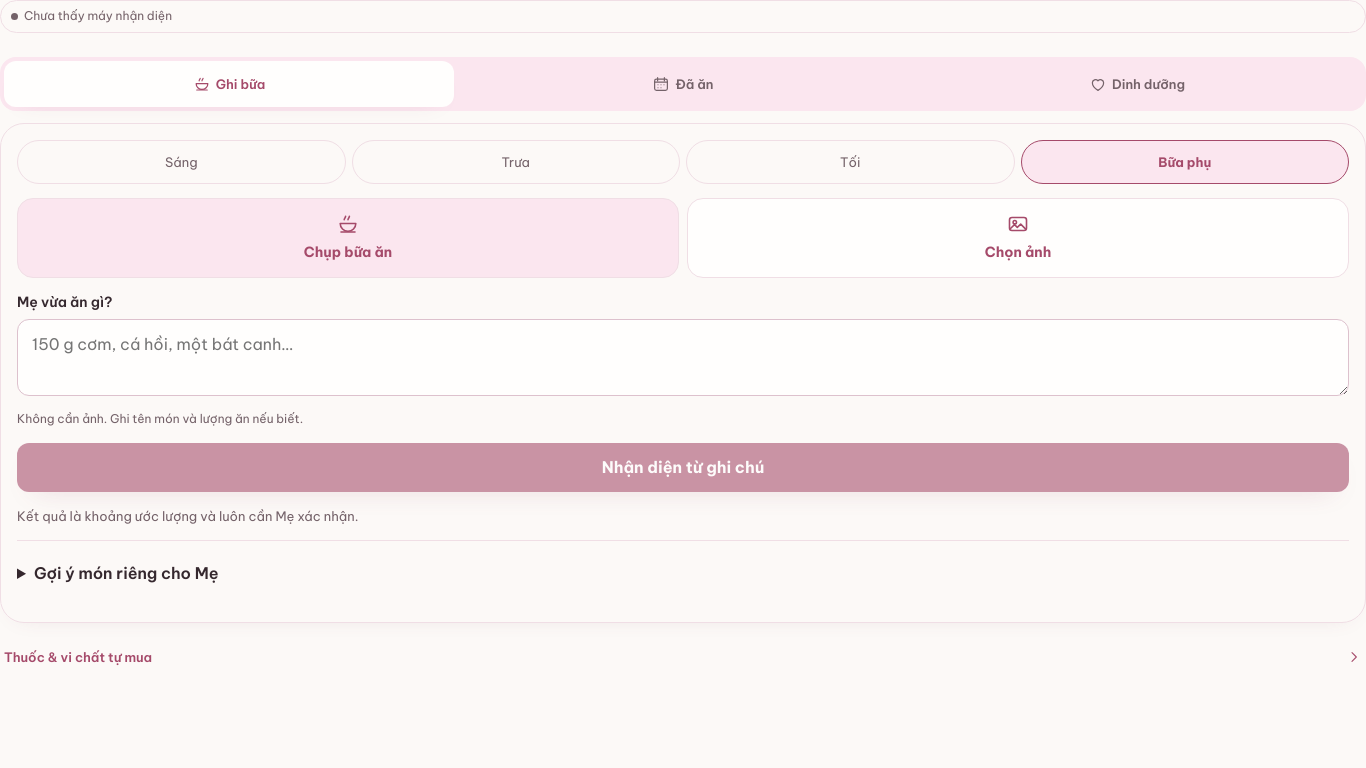
Test: mobile meal journal › shows a retry instead of an empty history when the connection fails
Click the button "Đã ăn".
click(683, 84)  # box left=458, top=61, right=908, bottom=107
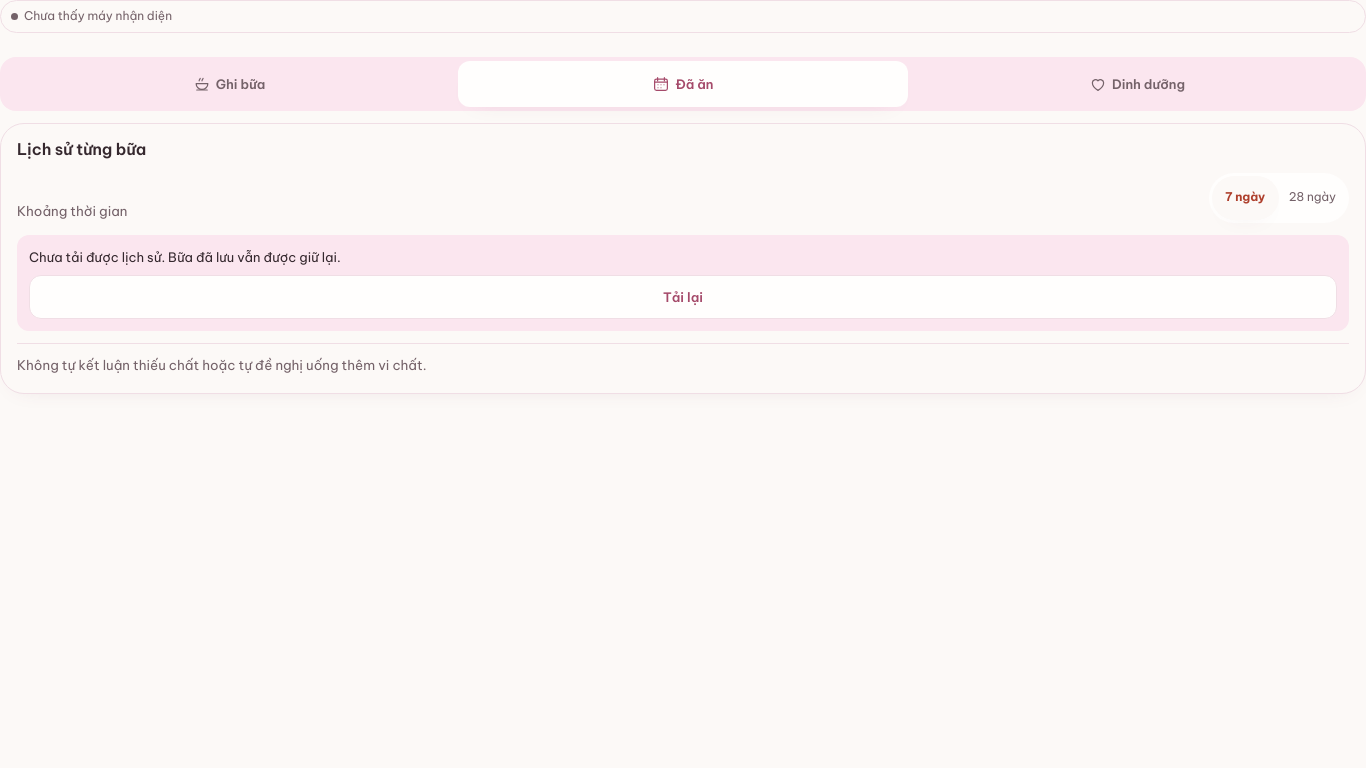
expect the message shows "Chưa tải được lịch sử": met, box left=29, top=249, right=341, bottom=265
Click the button "Tải lại".
click(683, 297)  # box left=29, top=275, right=1337, bottom=319
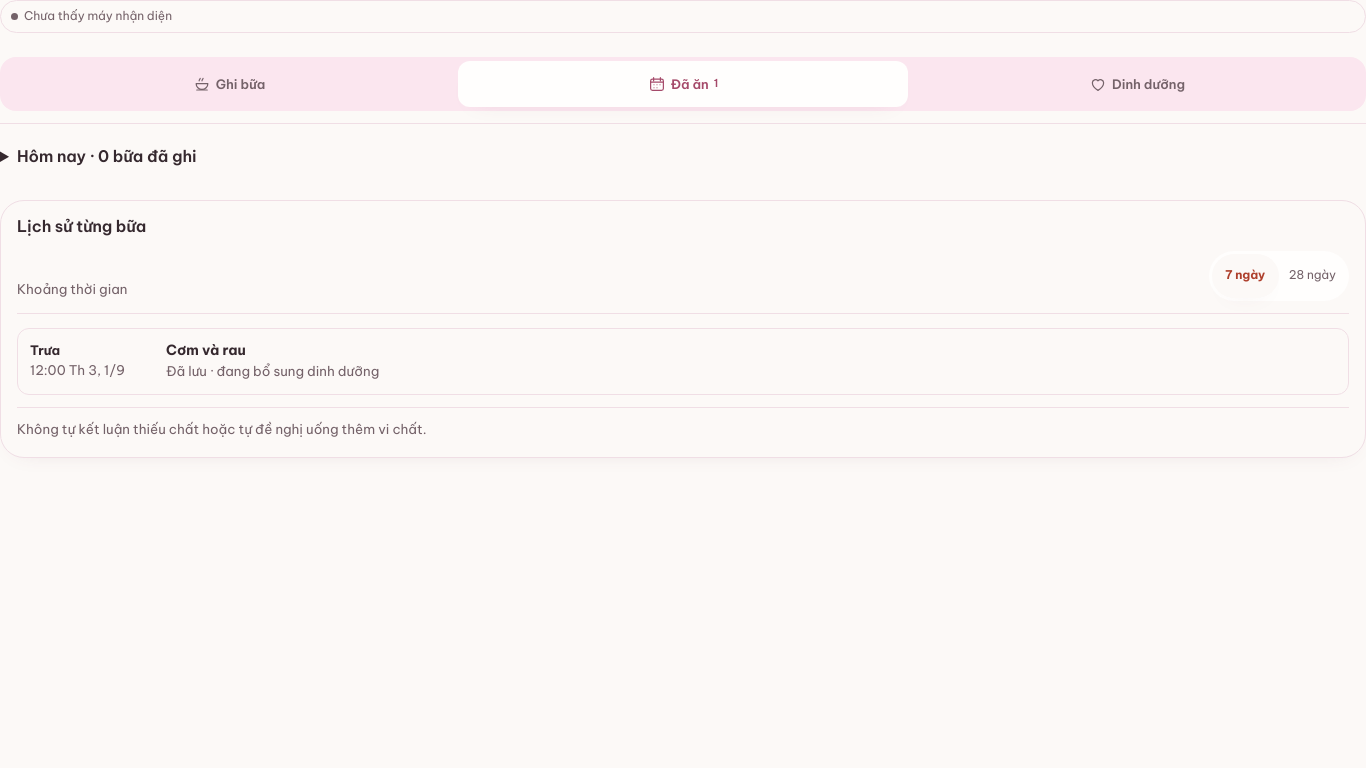
expect the text "Cơm và rau" is shown: met, box left=166, top=341, right=246, bottom=359
expect the message "Chưa tải được lịch sử. Bữa đã lưu vẫn được giữ lại. Tải lại" is gone: met
